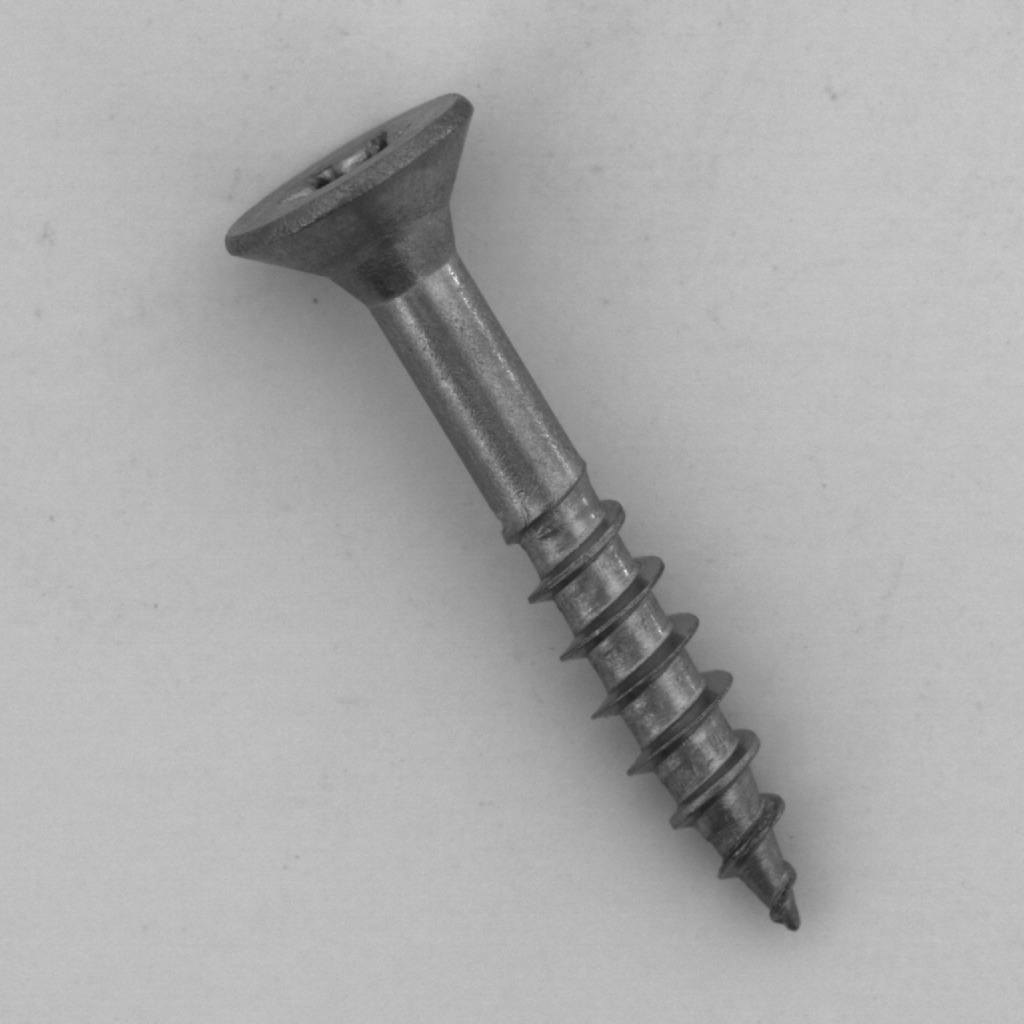good: (200, 79, 849, 949)
